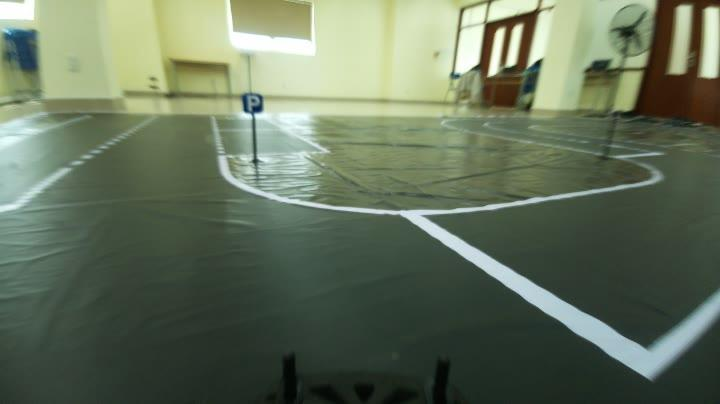parking: (241, 86, 270, 117)
